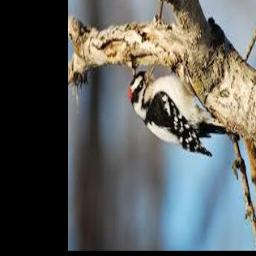Woodpecker: (130, 63, 233, 157)
